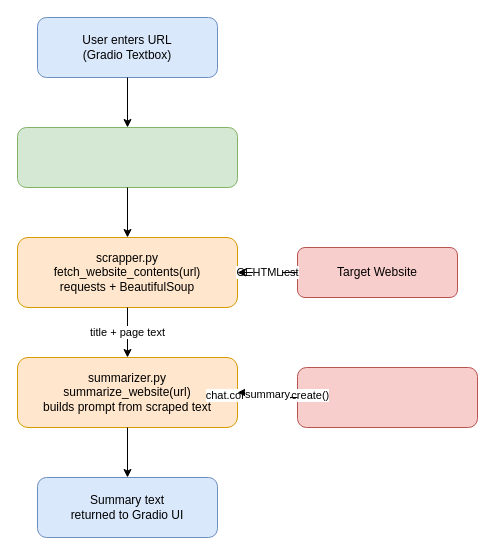
Image size: 495x555. Some labels were removed from this diagram. Each missing label, with the box of its shape:
app.py gr.Interface calls summarizer.summarize_website(url): (16, 126, 238, 188)
Groq API (OpenAI-compatible client) model: openai/gpt-oss-120b: (296, 366, 478, 428)
